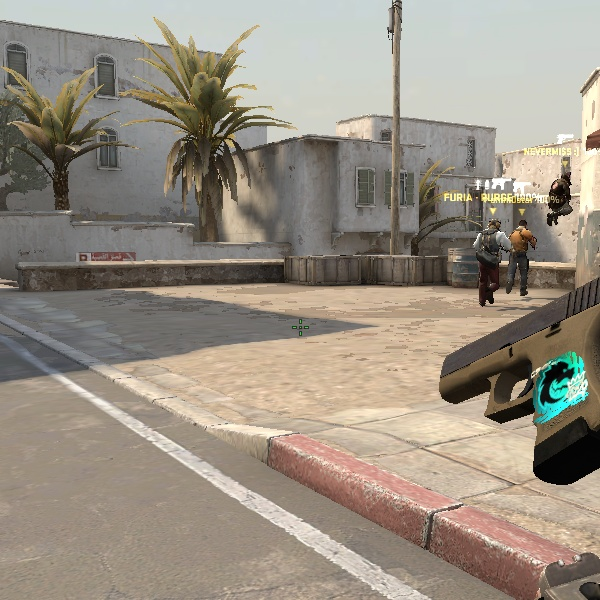t_body: (468, 217, 510, 308), (501, 218, 542, 297), (542, 169, 578, 227)
t_head: (485, 218, 504, 237), (514, 218, 534, 234), (559, 170, 575, 189)
